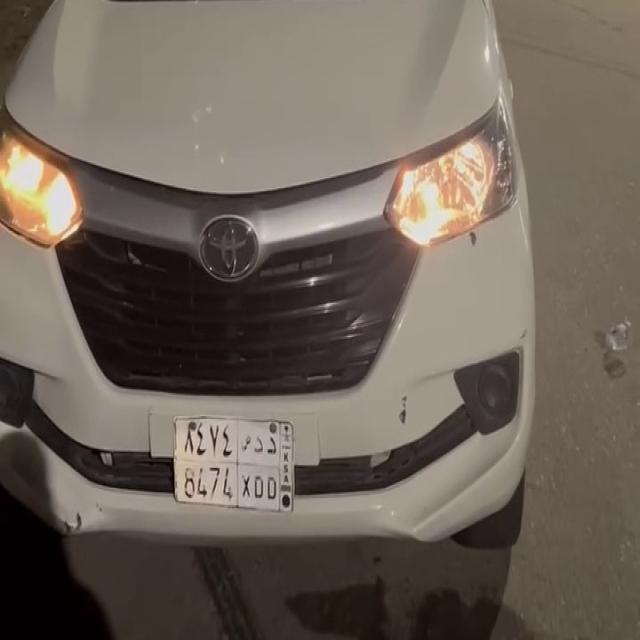Car-plate: (169, 404, 303, 522)
